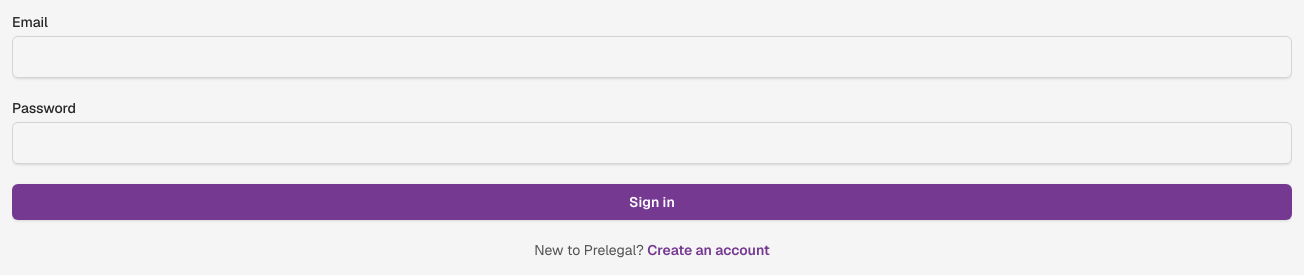
Scenario: AuthForm › disables the button while waiting for the backend
Type "ada@acme.test" into the field labelled "Email" at x=652, y=57, box 12,36 -> 1292,78
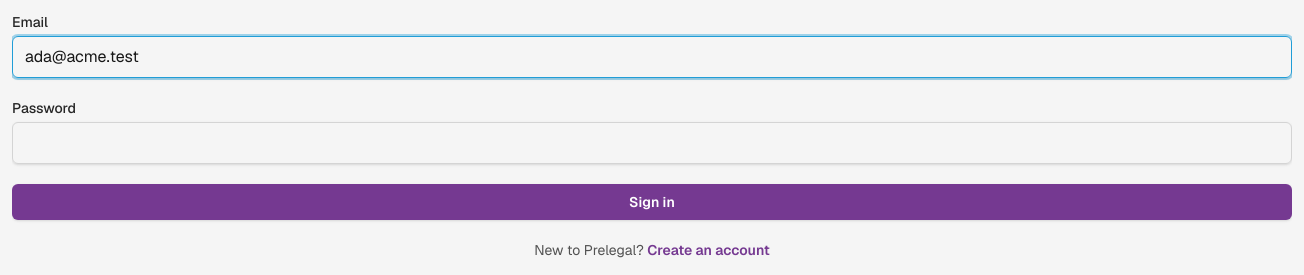
Type "secret pass" into the password field labelled "Password" at x=652, y=143, box 12,122 -> 1292,164
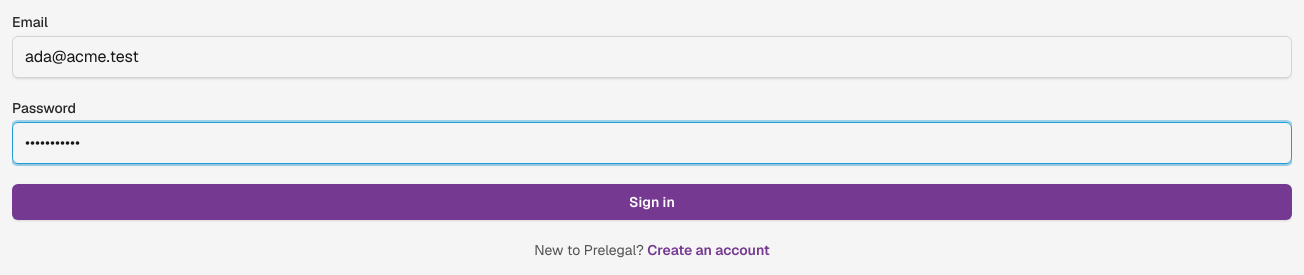
Click the button "Sign in" at x=652, y=202, box 12,184 -> 1292,220
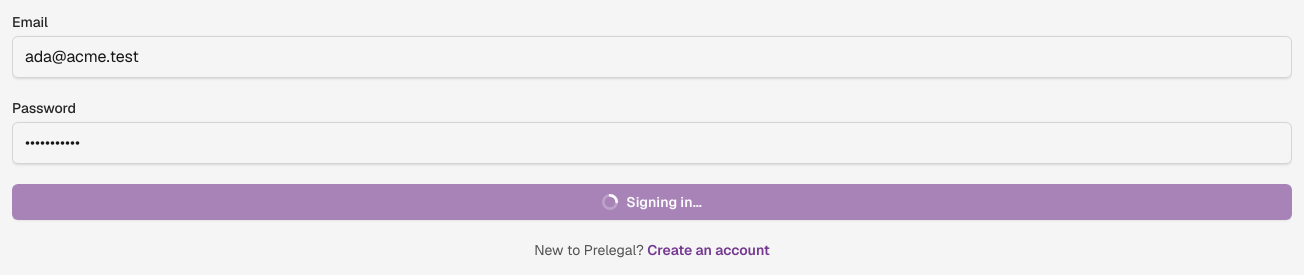
Expected: the button "Signing in…" is disabled, 12,184 -> 1292,220
